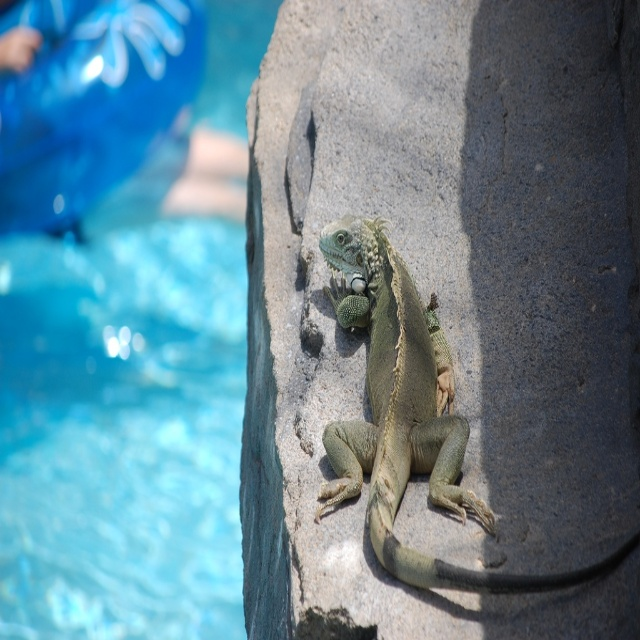Lizard: (316, 220, 636, 588)
